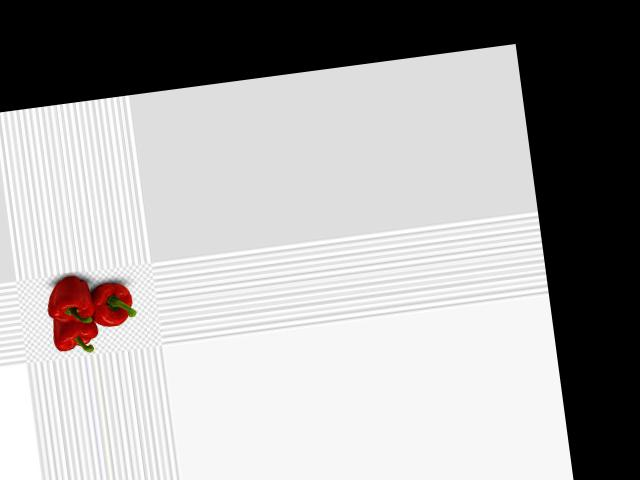bell_pepper: (83, 275, 141, 334)
